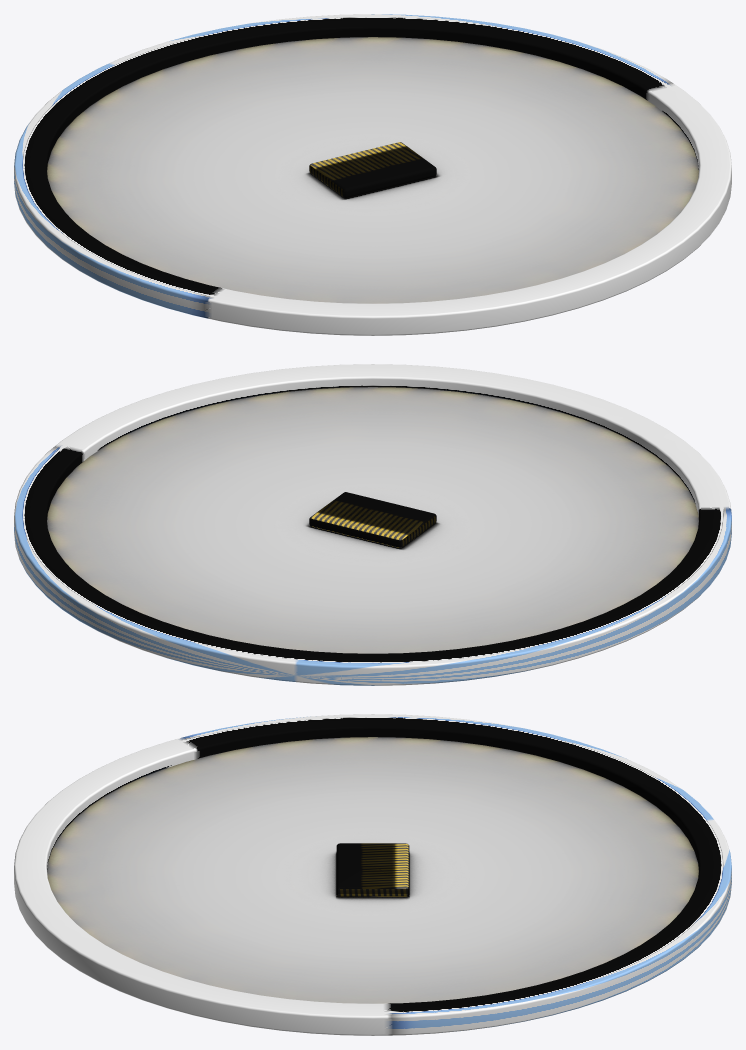
Rendered from arena.dae.
The picture shows the model from 3 angles, top to bottom: view 1: azimuth 30°, elevation 25°; view 2: azimuth 150°, elevation 25°; view 3: azimuth 270°, elevation 25°; orthographic projection.
Parts seen in each view (by area): view 1: Disc, Tube, BalanceBoard; view 2: Disc, Tube, BalanceBoard; view 3: Disc, Tube, BalanceBoard.
Part boxes in pixels (bbox=[...]): Disc: bbox=[47, 37, 698, 303]; Tube: bbox=[14, 14, 731, 335]; BalanceBoard: bbox=[309, 142, 436, 197]; Disc: bbox=[47, 387, 698, 653]; Tube: bbox=[14, 364, 731, 685]; BalanceBoard: bbox=[309, 492, 436, 547]; Disc: bbox=[47, 737, 698, 1003]; Tube: bbox=[14, 714, 731, 1035]; BalanceBoard: bbox=[336, 843, 409, 896].
Bounding box in the file's own units: 330 × 10 × 330.
3 materials, 3 textured.
